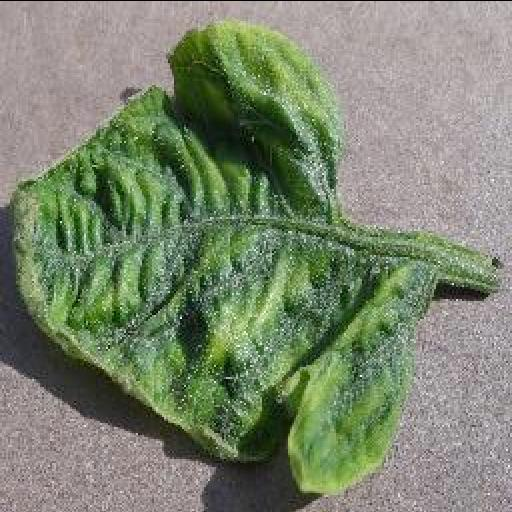disease_tomato: (6, 22, 422, 496)
